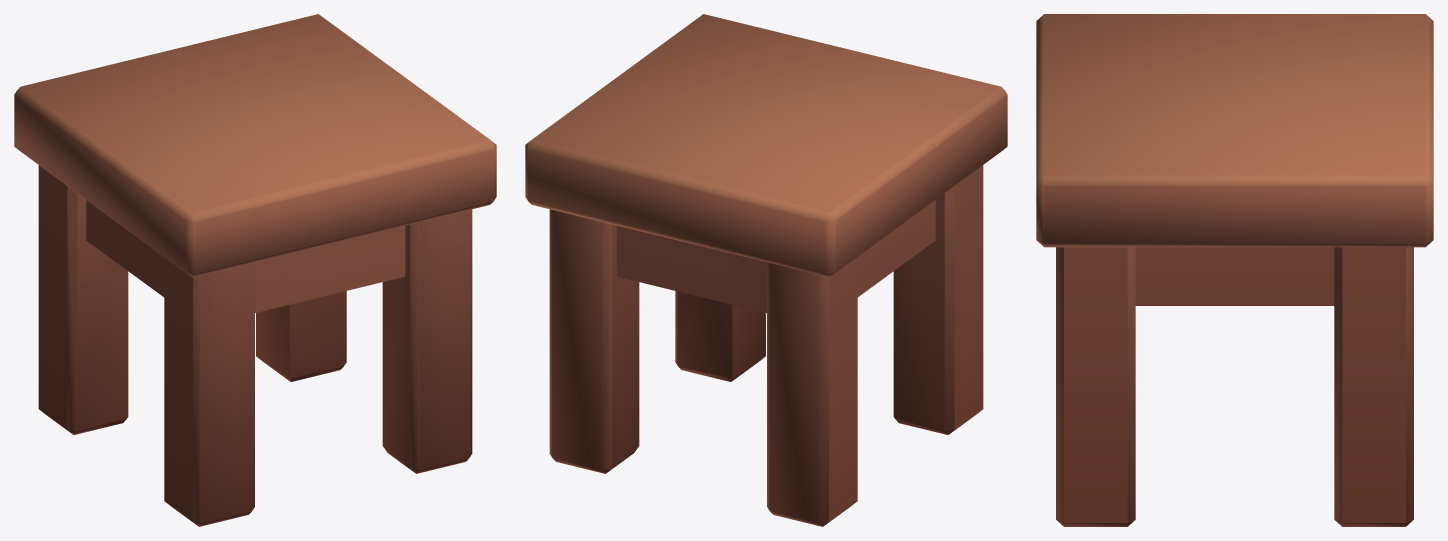
File: table-small.glb
3 views of the same model, side by side, from view 1: azimuth 30°, elevation 25°; view 2: azimuth 150°, elevation 25°; view 3: azimuth 270°, elevation 25° (orthographic). The views are drawn at different scales.
Parts seen in each view (by area): view 1: table_small; view 2: table_small; view 3: table_small.
Boxes of the visible parts, left/top/right/bottom form: table_small: left=14, top=14, right=496, bottom=526; table_small: left=525, top=14, right=1007, bottom=526; table_small: left=1036, top=14, right=1433, bottom=526.
Size of the model in its own units: 0.6 by 0.6 by 0.6.
Materials: 1 (1 with a texture image).
